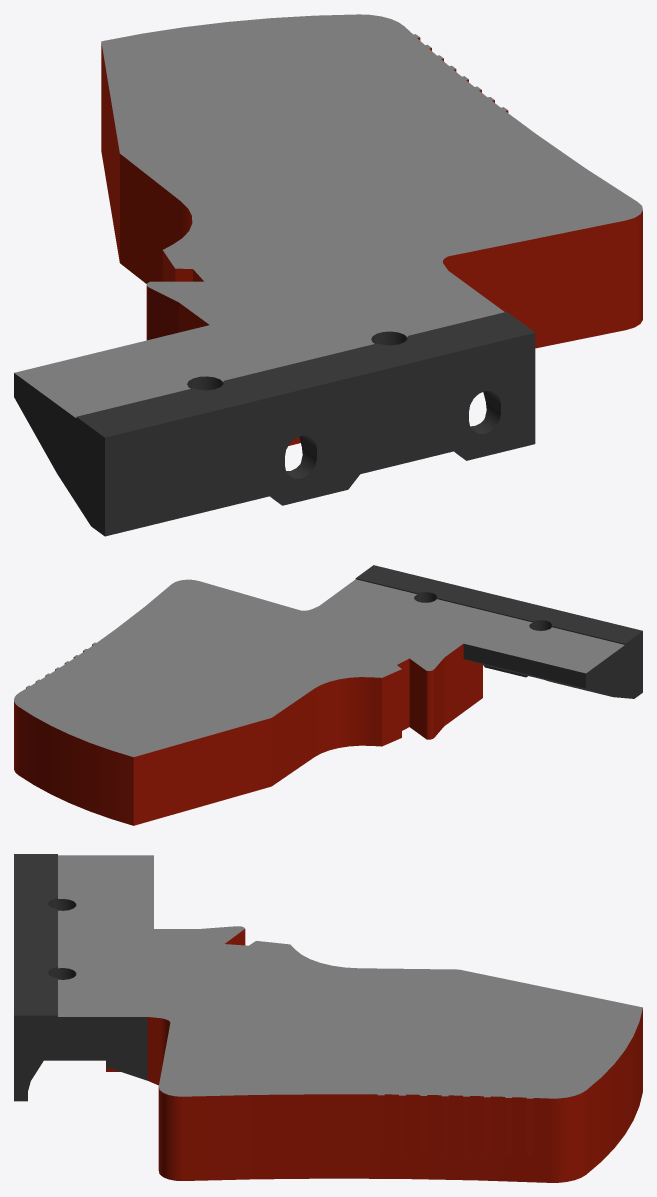
The picture shows the model from 3 angles, top to bottom: view 1: azimuth 30°, elevation 25°; view 2: azimuth 150°, elevation 25°; view 3: azimuth 270°, elevation 25°; orthographic projection. The views are drawn at different scales.
Visible parts, largest first — view 1: bau0023102024; view 2: bau0023102024; view 3: bau0023102024.
Boxes of the visible parts, <box> form: bau0023102024: <box>14,14,642,536</box>; bau0023102024: <box>14,565,642,825</box>; bau0023102024: <box>14,854,642,1182</box>.
Bounding box in the file's own units: 0.081 × 0.0154 × 0.0885.
